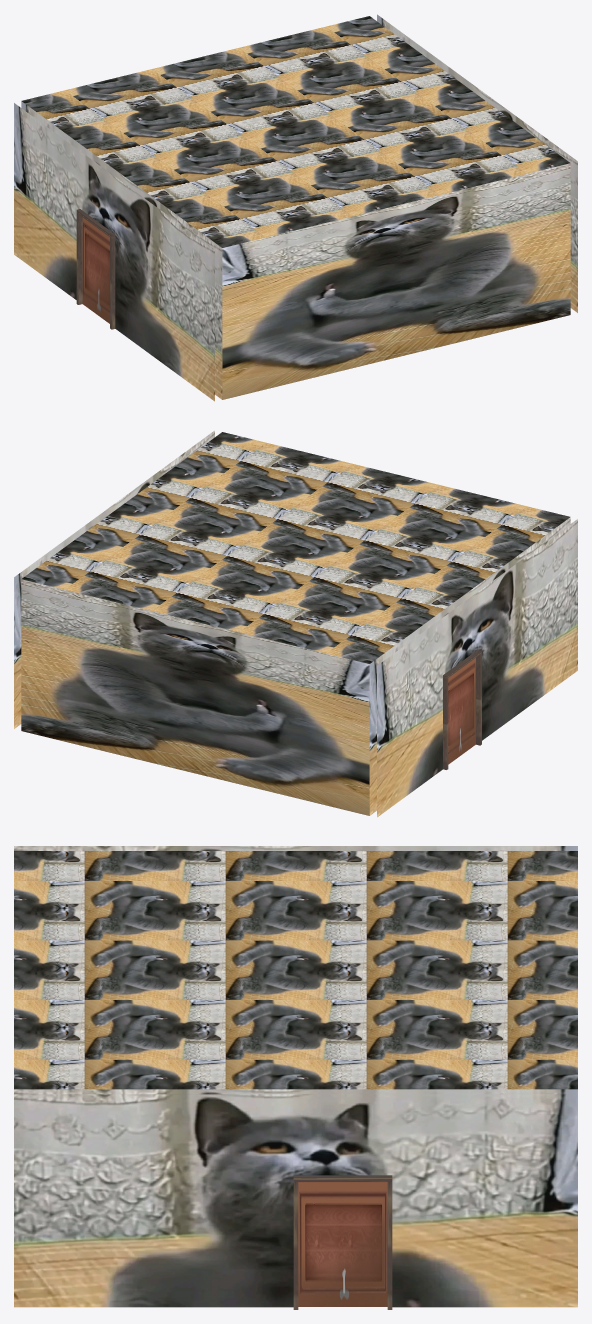
File: catdoor_edited.glb
3 views of the same model, one above another, from view 1: azimuth 30°, elevation 25°; view 2: azimuth 150°, elevation 25°; view 3: azimuth 270°, elevation 25° (orthographic). The views are drawn at different scales.
Visible parts, largest first — view 1: Plane.015, Plane.001, Plane.012, Plane.013, door1, Plane.011, Plane.009, Plane.003, Cube.006, Cube.005, Plane.008, Plane.002; view 2: Plane.015, Plane.014, Plane.012, Plane.013, door1, Plane.011, Plane.008, Plane.002, Plane.003, Plane.009, Cube.006, Cube.005; view 3: Plane.015, Plane.003, Plane.002, door2, Plane.004, Plane.006, Plane.012, Plane.007, Plane.013, Cube.001, Cube.002, Cube.003.
Boxes of the visible parts, x1,y1,x2,y2 form: Plane.015: [22, 16, 570, 247]; Plane.001: [222, 163, 570, 399]; Plane.012: [114, 177, 214, 401]; Plane.013: [14, 103, 80, 299]; door1: [82, 217, 109, 323]; Plane.011: [81, 152, 114, 233]; Plane.009: [121, 175, 222, 399]; Plane.003: [477, 88, 577, 312]; Cube.006: [76, 213, 82, 304]; Cube.005: [110, 237, 115, 329]; Plane.008: [21, 101, 88, 156]; Plane.002: [377, 14, 443, 69]; Plane.015: [21, 432, 569, 663]; Plane.014: [21, 579, 369, 815]; Plane.012: [477, 519, 577, 740]; Plane.013: [377, 617, 443, 817]; door1: [448, 658, 475, 764]; Plane.011: [444, 593, 477, 673]; Plane.008: [369, 615, 436, 815]; Plane.002: [14, 528, 80, 728]; Plane.003: [114, 430, 214, 510]; Plane.009: [470, 517, 570, 596]; Cube.006: [443, 678, 448, 769]; Cube.005: [476, 653, 481, 745]; Plane.015: [14, 851, 577, 1089]; Plane.003: [14, 1094, 295, 1307]; Plane.002: [390, 1094, 577, 1307]; door2: [298, 1182, 387, 1306]; Plane.004: [296, 1094, 389, 1175]; Plane.006: [14, 1089, 295, 1094]; Plane.012: [14, 846, 295, 850]; Plane.007: [390, 1089, 577, 1094]; Plane.013: [390, 846, 577, 850]; Cube.001: [387, 1182, 392, 1309]; Cube.002: [293, 1182, 298, 1309]; Cube.003: [293, 1175, 392, 1181].
Bounding box in the file's own units: 25.5 × 10 × 24.
Materials: 7 (7 with a texture image).
